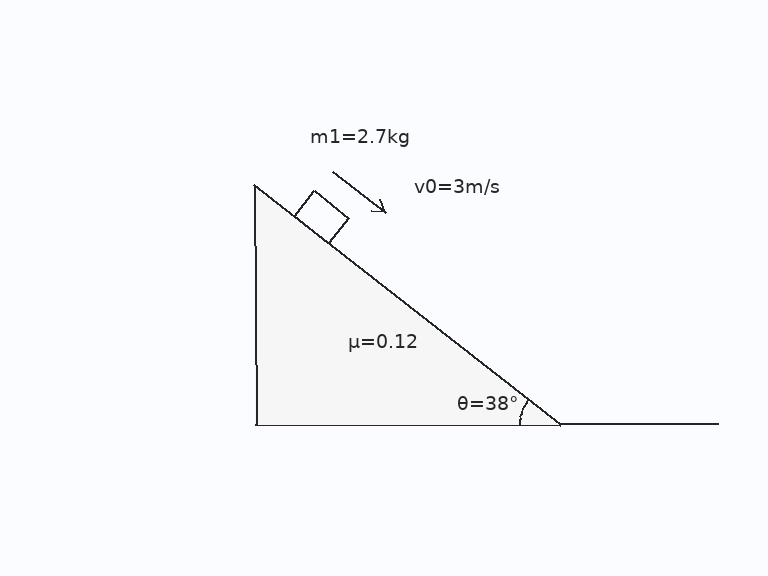block: (292, 188, 350, 245)
ramp: (253, 184, 562, 426)
